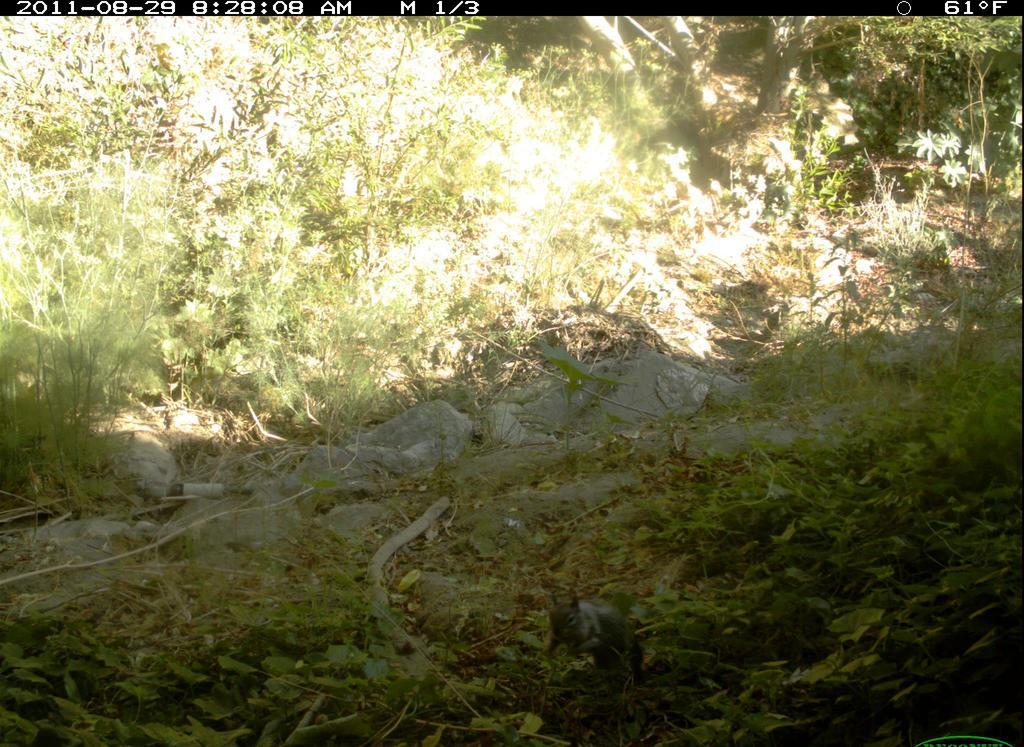squirrel: (538, 577, 661, 692)
